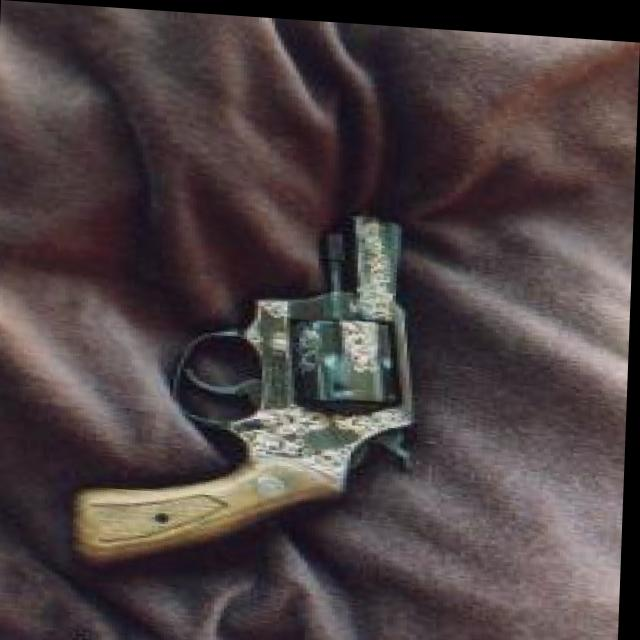handgun: (78, 190, 429, 584)
